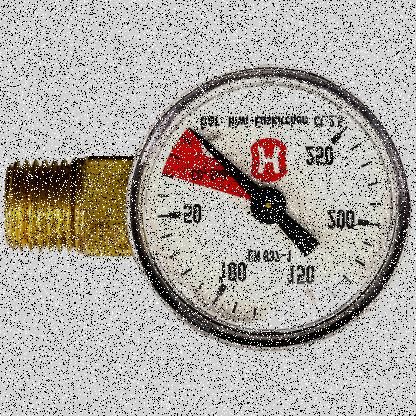needle: (191, 130, 262, 199)
